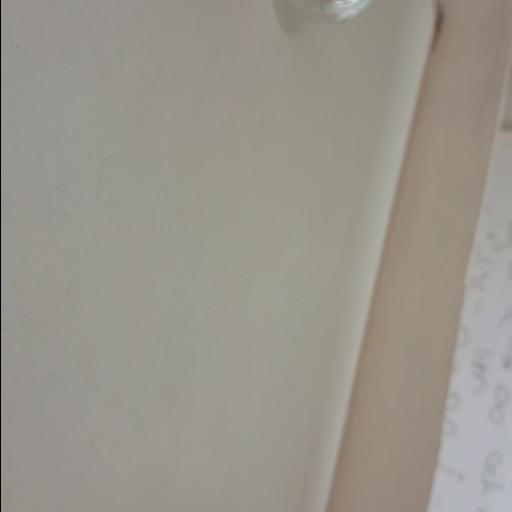alive: (281, 0, 376, 28)
